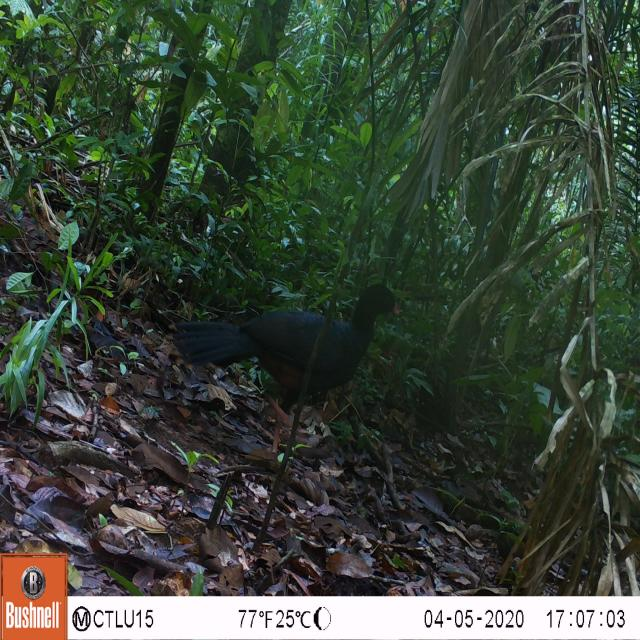Salvins Curassow: (170, 268, 423, 423)
